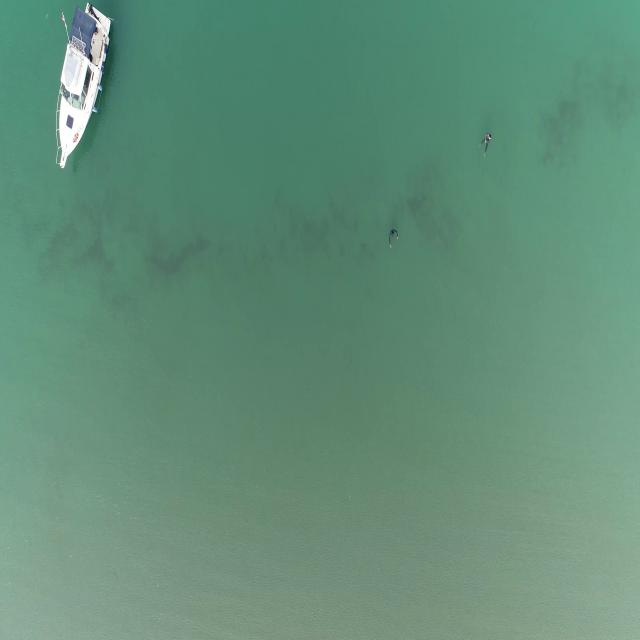boat: (53, 2, 114, 169)
person: (481, 132, 493, 161), (386, 228, 399, 250)
